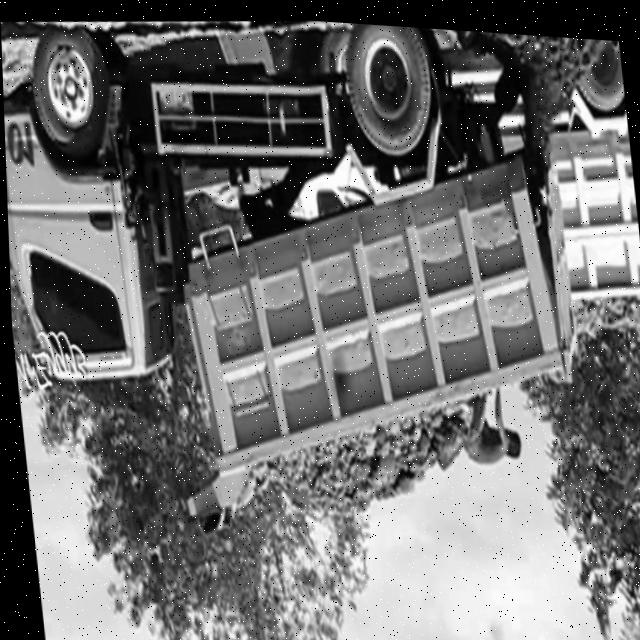truck: (2, 35, 202, 428)
